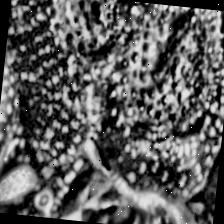Anthracnose Fruit Rot: (108, 0, 224, 138), (38, 0, 128, 67)
